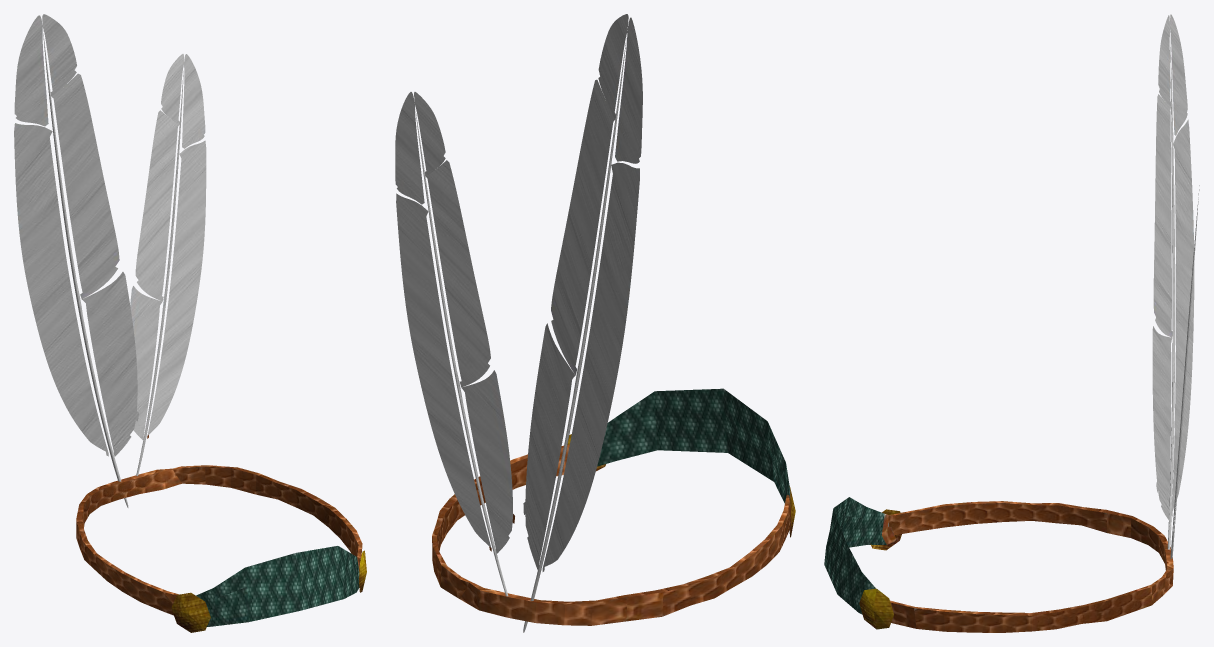
File: mhw_elvs_basic_brave_feathers1.glb
The picture shows the model from 3 angles, left to right: view 1: azimuth 30°, elevation 25°; view 2: azimuth 150°, elevation 25°; view 3: azimuth 270°, elevation 25°; orthographic projection. The views are drawn at different scales.
Parts seen in each view (by area): view 1: mhw_elvs_basic_brave_feathers1; view 2: mhw_elvs_basic_brave_feathers1; view 3: mhw_elvs_basic_brave_feathers1.
Part boxes in pixels (bbox=[...]): mhw_elvs_basic_brave_feathers1: bbox=[14, 14, 366, 632]; mhw_elvs_basic_brave_feathers1: bbox=[395, 14, 795, 632]; mhw_elvs_basic_brave_feathers1: bbox=[824, 14, 1199, 632].
Bounding box in the file's own units: 0.1717 × 0.3711 × 0.2377.
1 material, 1 textured.
